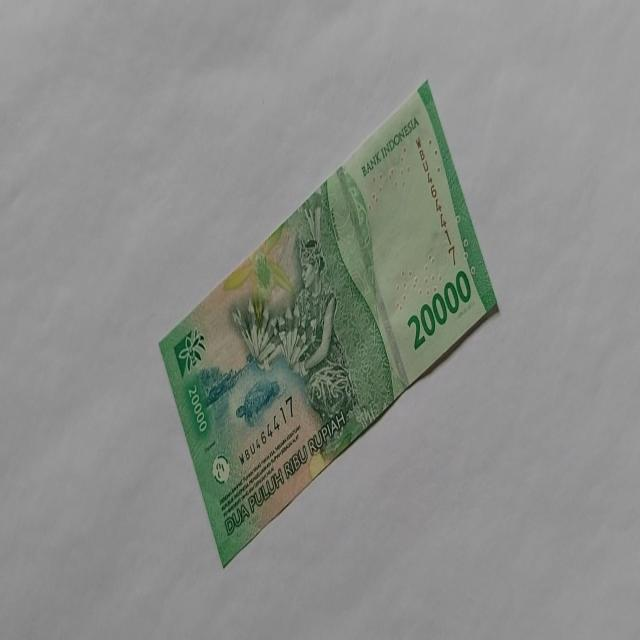dua puluh ribu rupiah: (156, 77, 499, 567), (406, 268, 472, 352)
